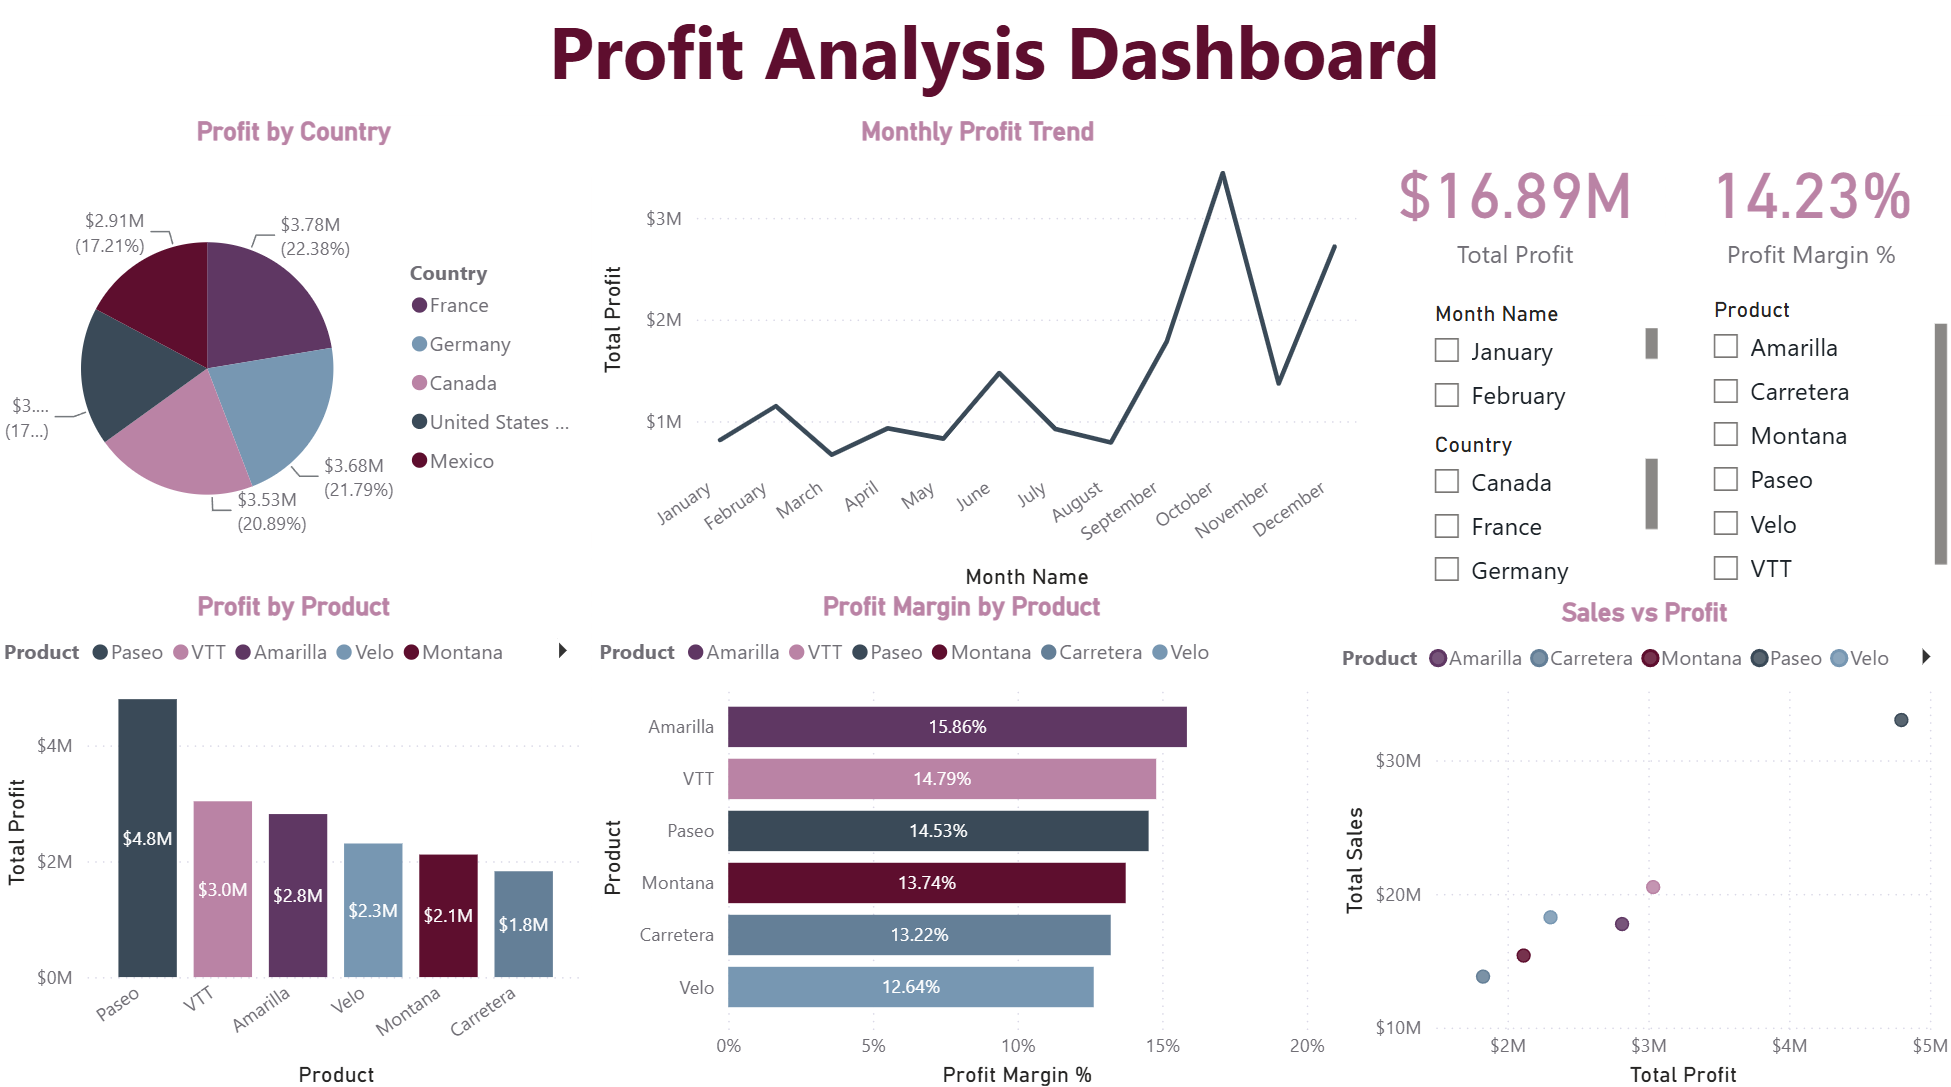

The dashboard page shown, as its layout file describes it:
{"tool":"powerbi","page":{"name":"Profit Analysis","canvas":[1280,720],"ordinal":2},"visuals":[{"type":"textbox","box":[10.4,0,1270,81.1],"z":0},{"type":"card","fields":{"Values":["Measures (2).Total Profit"]},"box":[893.8,81.3,197,115.6],"z":1000},{"type":"card","fields":{"Values":["Measures (2).Profit Margin %"]},"box":[1090.4,81.1,190,115.9],"z":2000},{"type":"columnChart","title":"Profit by Product","fields":{"Category":["Dim_Product.Product"],"Series":["Dim_Product.Product"],"Y":["Measures (2).Total Profit"]},"box":[0,391.7,389.3,327.9],"z":3000},{"type":"pieChart","title":"Profit by Country","fields":{"Category":["Dim_Country.Country"],"Y":["Measures (2).Total Profit"]},"box":[0,81.1,389.3,310.5],"z":4000},{"type":"barChart","title":"Profit Margin by Product","fields":{"Category":["Dim_Product.Product"],"Series":["Dim_Product.Product"],"Y":["Measures (2).Profit Margin %"]},"box":[389,392,484,328],"z":5000},{"type":"lineChart","title":"Monthly Profit Trend","fields":{"Category":["Dim_Date.Month Name"],"Y":["Measures (2).Total Profit"]},"box":[389.1,81.3,504.7,313.6],"z":6000},{"type":"scatterChart","title":"Sales vs Profit","fields":{"Category":["Dim_Product.Product"],"Series":["Dim_Product.Product"],"X":["Measures (2).Total Profit"],"Y":["Measures (2).Total Sales"]},"box":[874,396,406,324],"z":7000},{"type":"slicer","fields":{"Values":["Dim_Country.Country"]},"box":[927.1,282.3,163.7,109.8],"z":8000},{"type":"slicer","fields":{"Values":["Dim_Product.Product"]},"box":[1109.4,194,170.5,198],"z":9000},{"type":"slicer","fields":{"Values":["Dim_Date.Month Name"]},"box":[927.1,197,163.7,84.3],"z":10000}]}

Visuals, with their boxes in screenshot pixels (x1, y1, x2, y2), scaled from the page's 1280x720 canvas onto the 1951x1087 screenshot:
textbox: (left=16, top=0, right=1950, bottom=122)
card - Measures (2).Total Profit: (left=1362, top=123, right=1663, bottom=297)
card - Measures (2).Profit Margin %: (left=1662, top=122, right=1950, bottom=297)
"Profit by Product" columnChart: (left=0, top=591, right=593, bottom=1086)
"Profit by Country" pieChart: (left=0, top=122, right=593, bottom=591)
"Profit Margin by Product" barChart: (left=593, top=592, right=1331, bottom=1086)
"Monthly Profit Trend" lineChart: (left=593, top=123, right=1362, bottom=596)
"Sales vs Profit" scatterChart: (left=1332, top=598, right=1950, bottom=1086)
slicer - Dim_Country.Country: (left=1413, top=426, right=1663, bottom=592)
slicer - Dim_Product.Product: (left=1691, top=293, right=1950, bottom=592)
slicer - Dim_Date.Month Name: (left=1413, top=297, right=1663, bottom=425)
